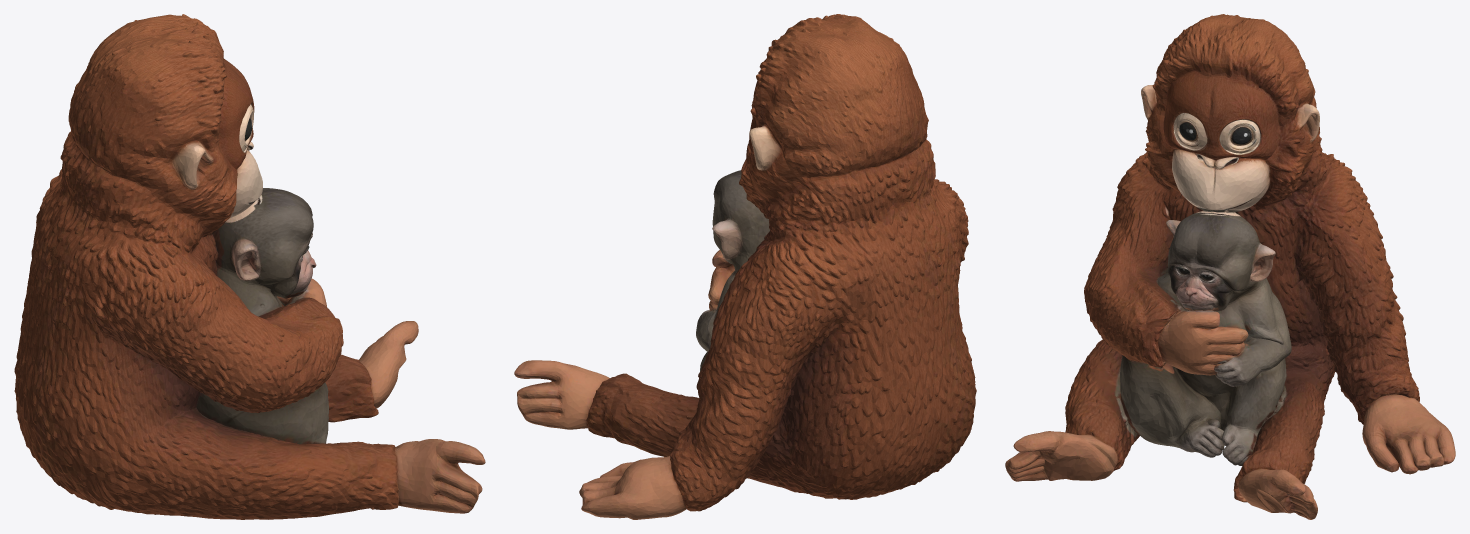
Rendered from Monito 1.glb.
The picture shows the model from 3 angles, left to right: view 1: azimuth 30°, elevation 25°; view 2: azimuth 150°, elevation 25°; view 3: azimuth 270°, elevation 25°; orthographic projection. The views are drawn at different scales.
Visible parts, largest first — view 1: tripo_node_653cffc8-ba47-473c-920b-12da51ad010b; view 2: tripo_node_653cffc8-ba47-473c-920b-12da51ad010b; view 3: tripo_node_653cffc8-ba47-473c-920b-12da51ad010b.
Part boxes in pixels (x1,y1,x2,y2): tripo_node_653cffc8-ba47-473c-920b-12da51ad010b: (14,14,485,519); tripo_node_653cffc8-ba47-473c-920b-12da51ad010b: (514,14,976,519); tripo_node_653cffc8-ba47-473c-920b-12da51ad010b: (1005,14,1455,519).
Size of the model in its own units: 0.9395 by 0.9455 by 0.9999.
1 material, 1 textured.
